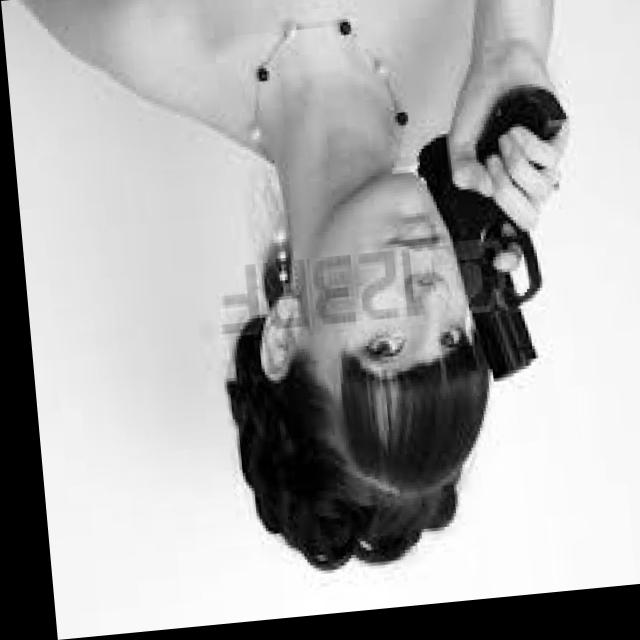handgun: (408, 95, 580, 400)
